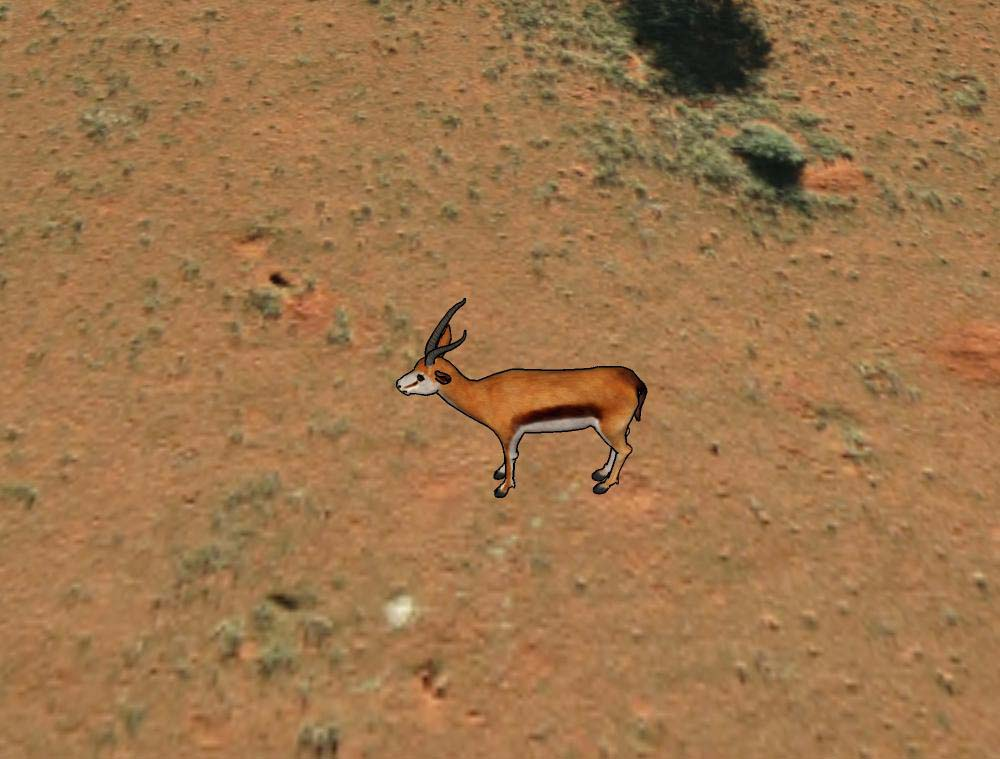springbok: (387, 296, 651, 501)
